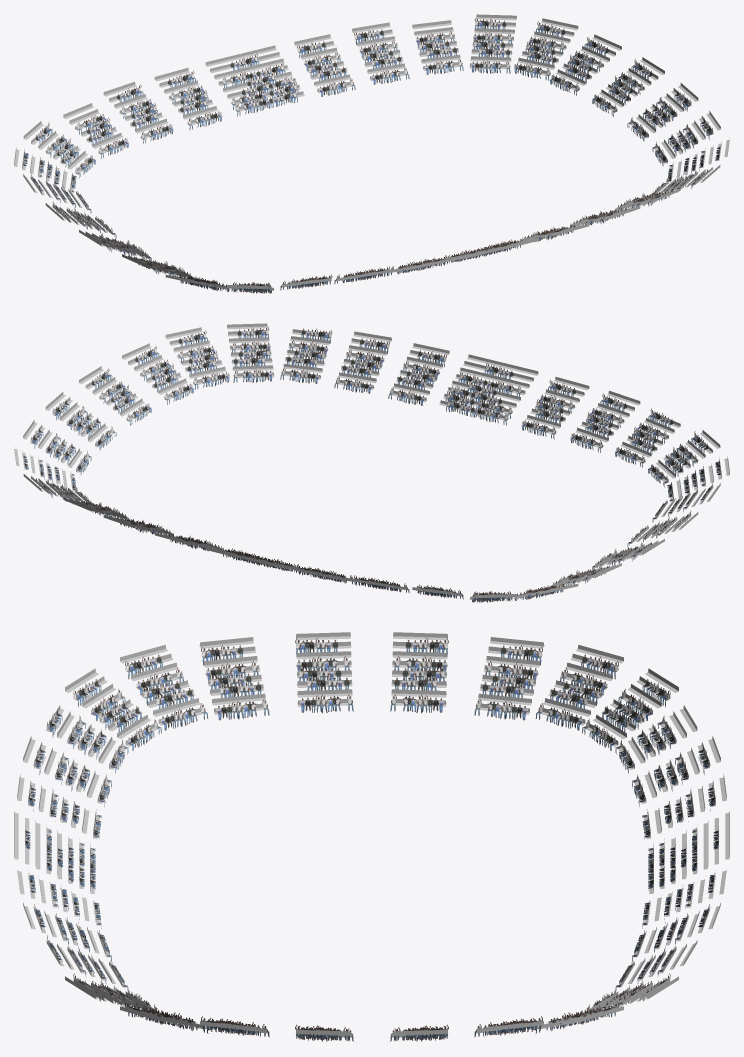
The model's file is crowdNchairs.fbx.
3 renders of one model, top to bottom at view 1: azimuth 30°, elevation 25°; view 2: azimuth 150°, elevation 25°; view 3: azimuth 270°, elevation 25°, orthographic. The views are drawn at different scales.
Visible parts, largest first — view 1: audience; view 2: audience; view 3: audience.
Boxes of the visible parts, bbox=[...] form: audience: bbox=[14, 14, 729, 293]; audience: bbox=[14, 323, 729, 602]; audience: bbox=[14, 632, 729, 1041].
Bounding box in the file's own units: 208 × 12.19 × 158.
